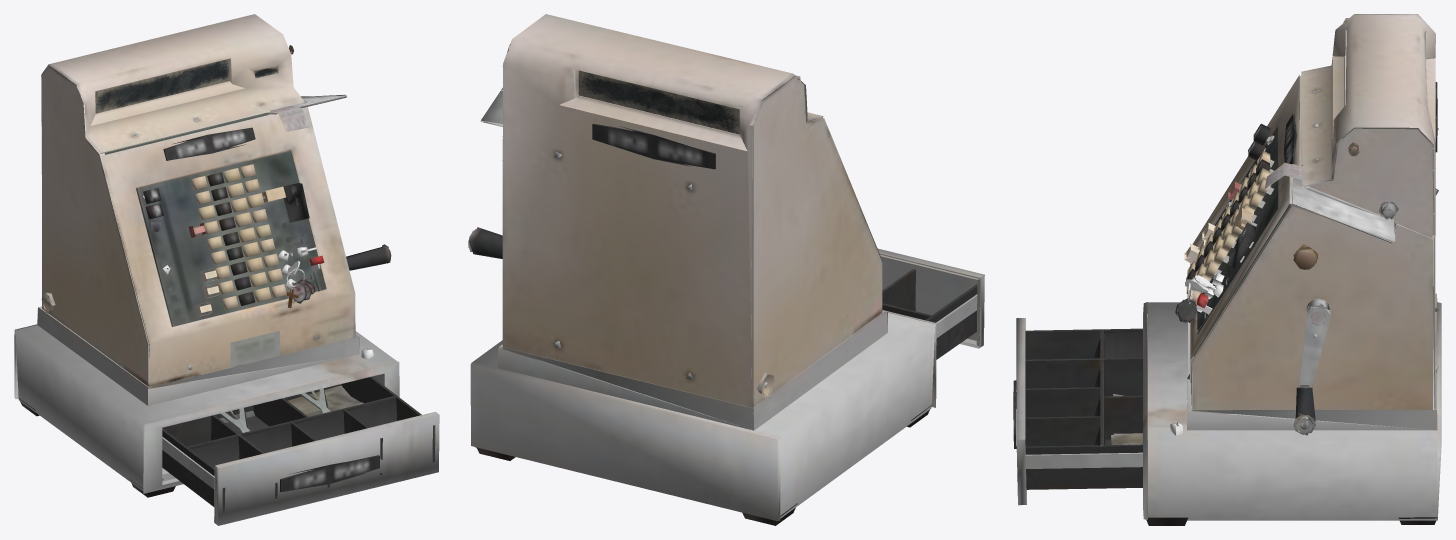
The model's file is CashRegister_01.glb.
3 views of the same model, side by side, from view 1: azimuth 30°, elevation 25°; view 2: azimuth 150°, elevation 25°; view 3: azimuth 270°, elevation 25° (orthographic). The views are drawn at different scales.
Parts seen in each view (by area): view 1: CashRegister_01_body; view 2: CashRegister_01_body; view 3: CashRegister_01_body.
Part boxes in pixels (x1,y1,x2,y2): CashRegister_01_body: (14,14,439,525); CashRegister_01_body: (468,14,984,525); CashRegister_01_body: (1013,14,1441,525).
Bounding box in the file's own units: 0.6008 × 0.6219 × 0.6229.
Materials: 2 (2 with a texture image).
